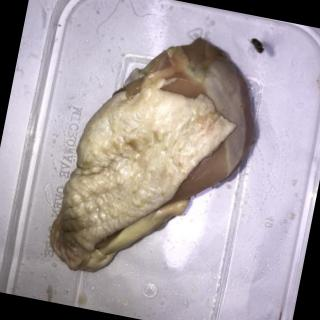Ayam: (43, 15, 271, 300)
